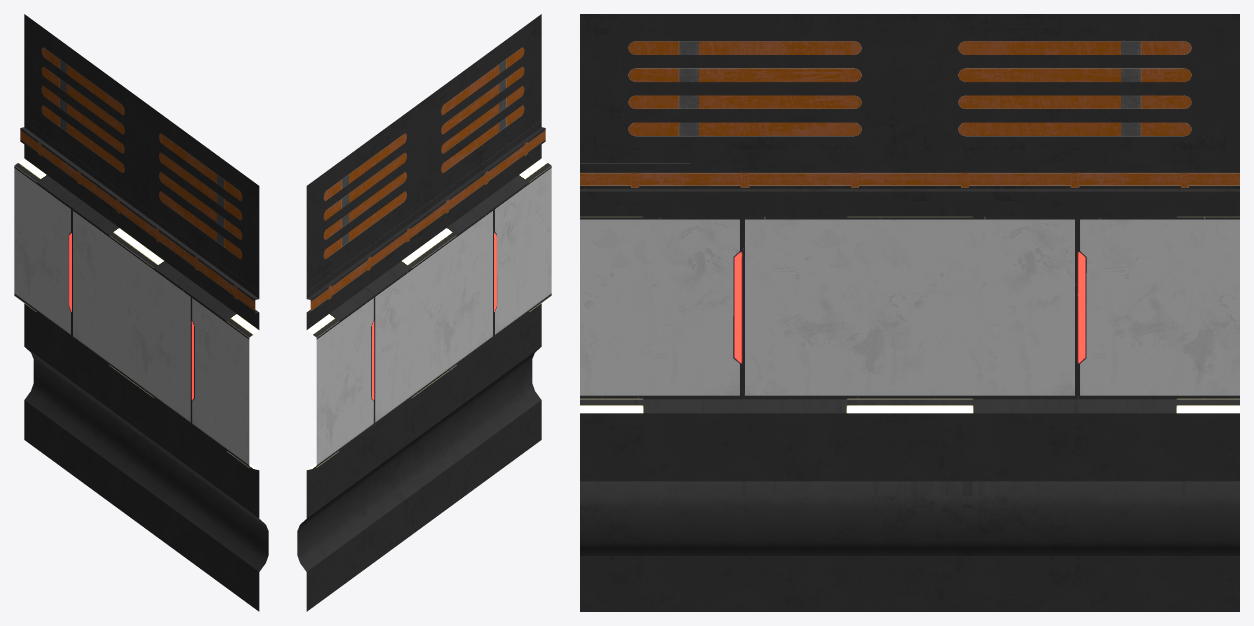
The model's file is SWall.fbx.
3 renders of one model, left to right at view 1: azimuth 30°, elevation 25°; view 2: azimuth 150°, elevation 25°; view 3: azimuth 270°, elevation 25°, orthographic. The views are drawn at different scales.
Parts seen in each view (by area): view 1: SWall; view 2: SWall; view 3: SWall.
Boxes of the visible parts, x1,y1,x2,y2 form: SWall: (14,14,268,611); SWall: (297,14,551,611); SWall: (580,14,1239,611).
Size of the model in its own units: 9.53 by 200 by 200.
